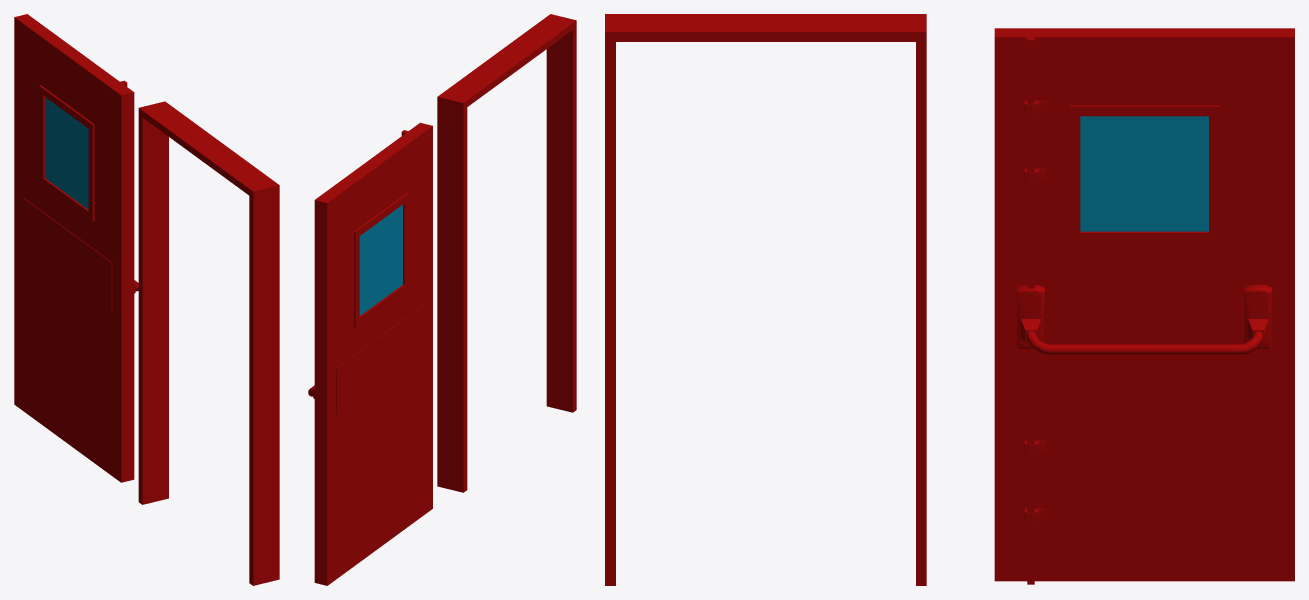
Rendered from MetalDoor_low.fbx.
The picture shows the model from 3 angles, left to right: view 1: azimuth 30°, elevation 25°; view 2: azimuth 150°, elevation 25°; view 3: azimuth 270°, elevation 25°; orthographic projection. The views are drawn at different scales.
Parts seen in each view (by area): view 1: Door_low, DoorFrame_low, HandleBack_low, Glass_low, GlassFrame_low; view 2: Door_low, DoorFrame_low, HandleBack_low, Glass_low, GlassFrame_low; view 3: Door_low, DoorFrame_low, Glass_low, GlassFrame_low, Handle_low, Bar_low, BarHandles_low.
Boxes of the visible parts, x1,y1,x2,y2 form: Door_low: (14, 14, 134, 482); DoorFrame_low: (138, 101, 279, 585); HandleBack_low: (22, 197, 112, 310); Glass_low: (45, 97, 88, 209); GlassFrame_low: (39, 85, 94, 221); Door_low: (314, 122, 432, 585); DoorFrame_low: (437, 14, 576, 492); HandleBack_low: (336, 304, 424, 415); Glass_low: (359, 204, 402, 315); GlassFrame_low: (354, 193, 408, 327); Door_low: (994, 28, 1294, 581); DoorFrame_low: (605, 14, 926, 585); Glass_low: (1080, 116, 1208, 231); GlassFrame_low: (1069, 105, 1219, 242); Handle_low: (1017, 285, 1272, 354); Bar_low: (1027, 37, 1034, 584); BarHandles_low: (1024, 100, 1046, 521).
Size of the model in its own units: 0.3301 by 2.85 by 3.22.
